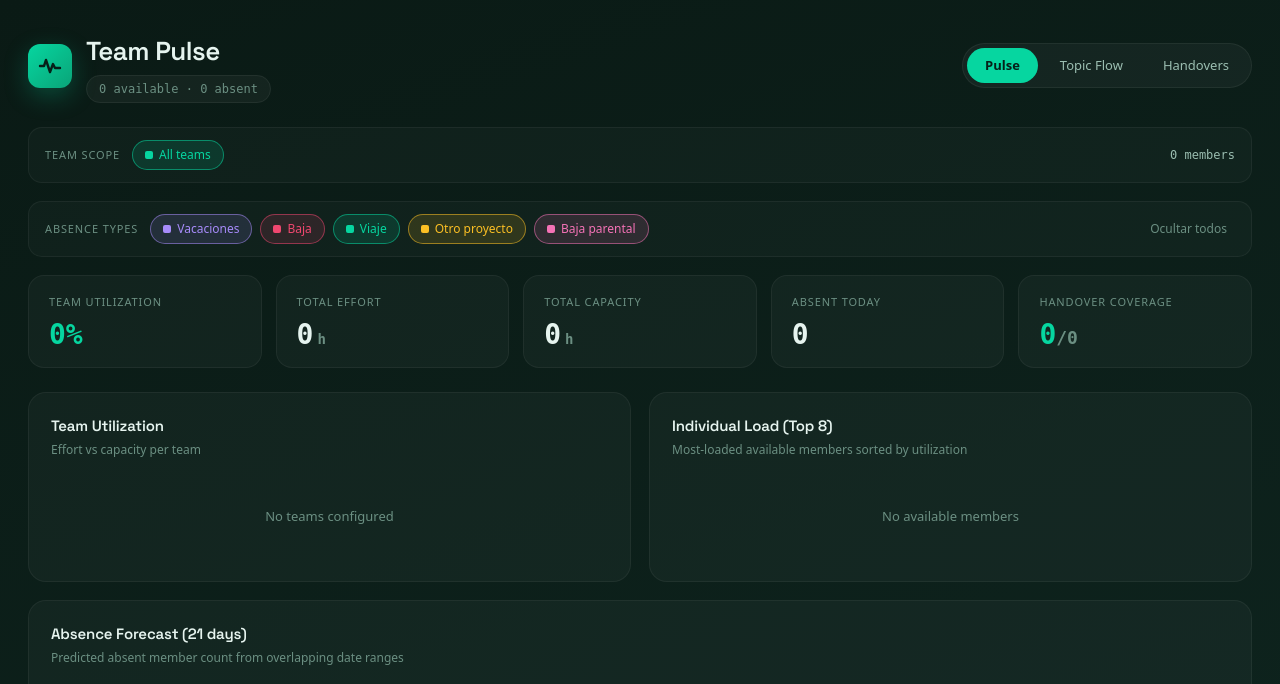
Test: TeamPulseDashboard › renders absence type filter chips with aria-pressed state
The width and height of the screenshot is (1280, 684).
Click the button "Vacaciones": (201, 229) [150,214,252,244]
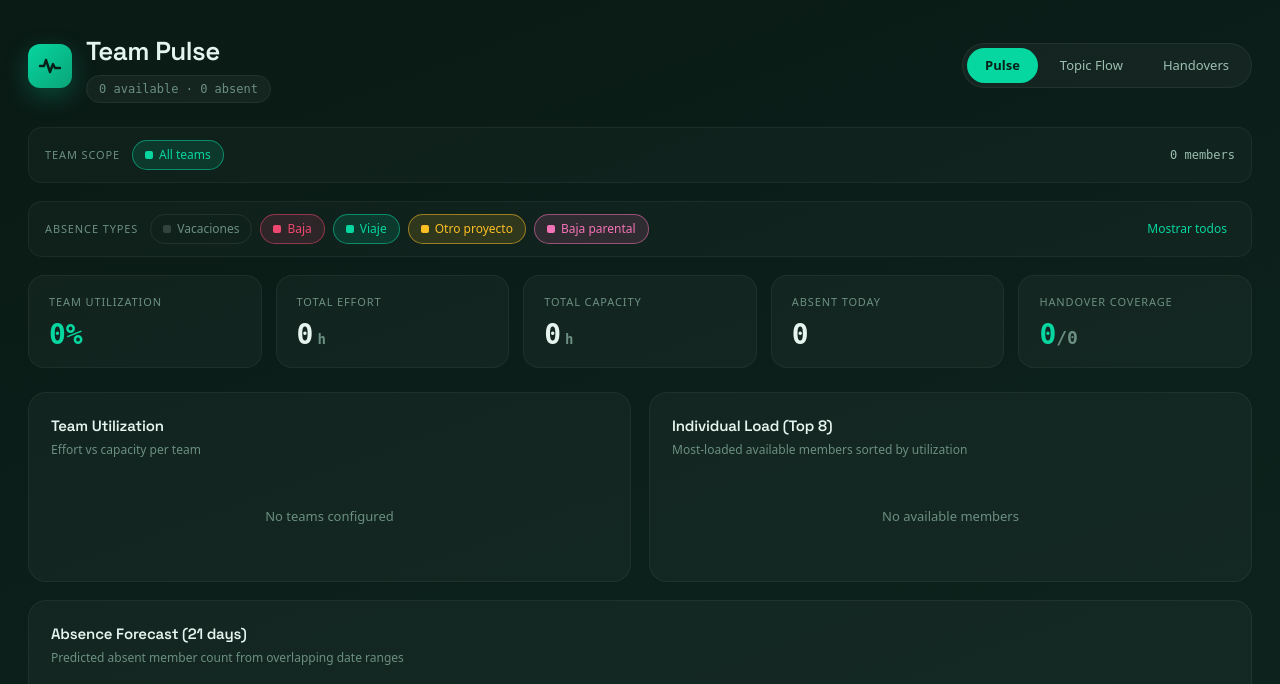
Check: the button "Vacaciones" is not pressed, box [150,214,252,244]
